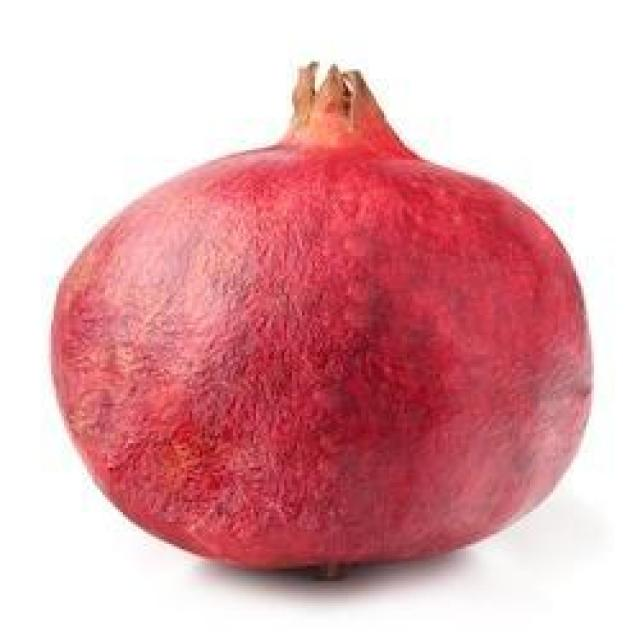Pomegranate: (49, 55, 595, 583)
